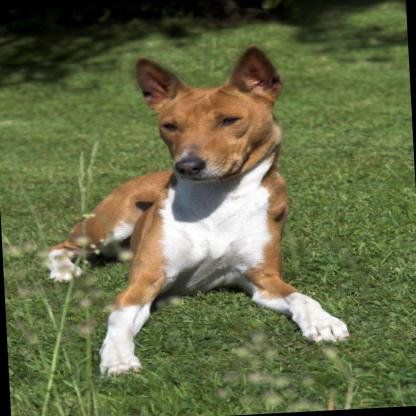basenji: (28, 43, 352, 376)
